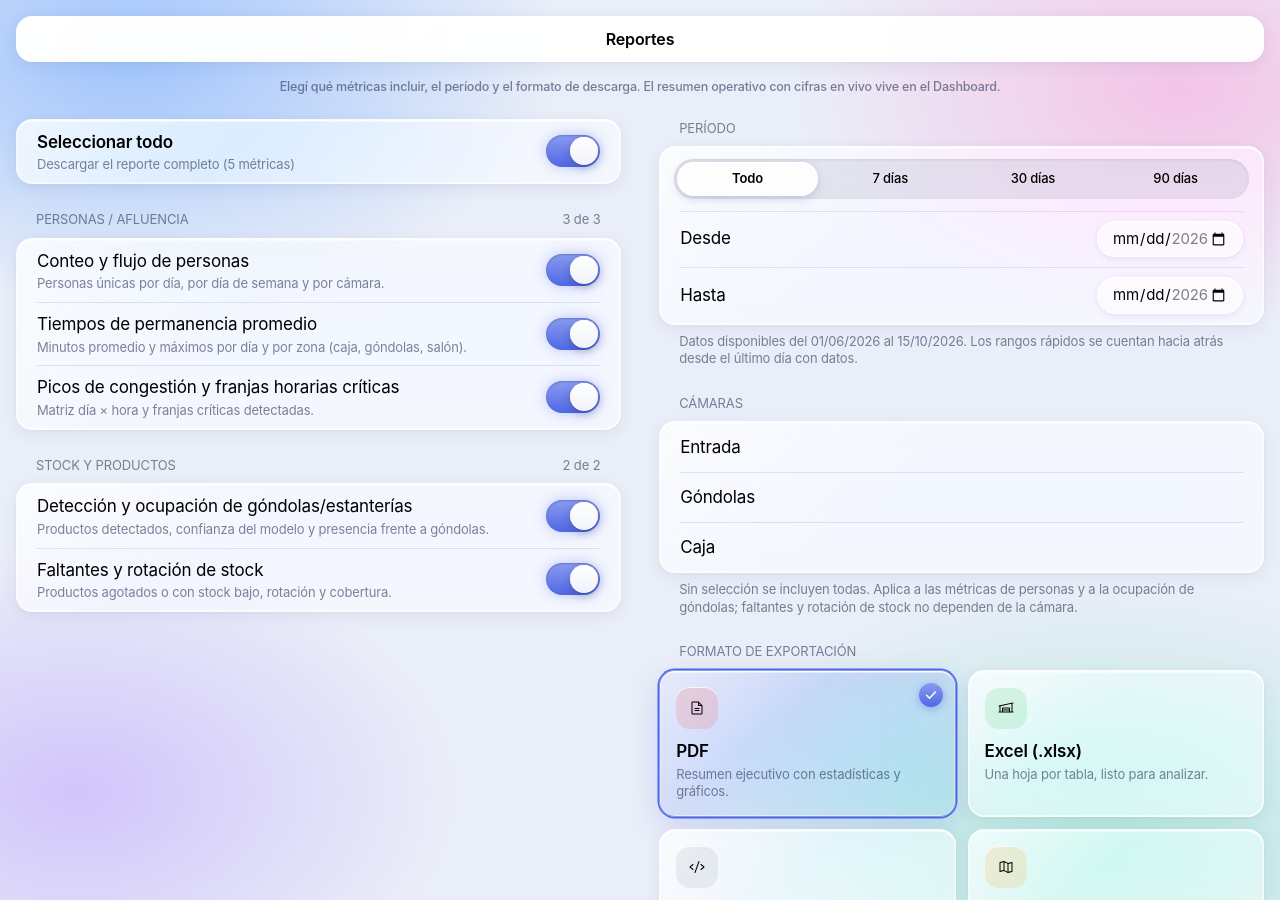
Test: período › el rango rápido "7 días" cuenta hacia atrás desde el último día con datos
The image size is (1280, 900).
Expected: the switch labelled "Seleccionar todo Descargar el reporte completo (5 métricas)" is shown, left=546, top=135, right=600, bottom=167
Click the button "7 días". click: {"x": 890, "y": 179}
box: left=820, top=162, right=961, bottom=196
(page scrolled)
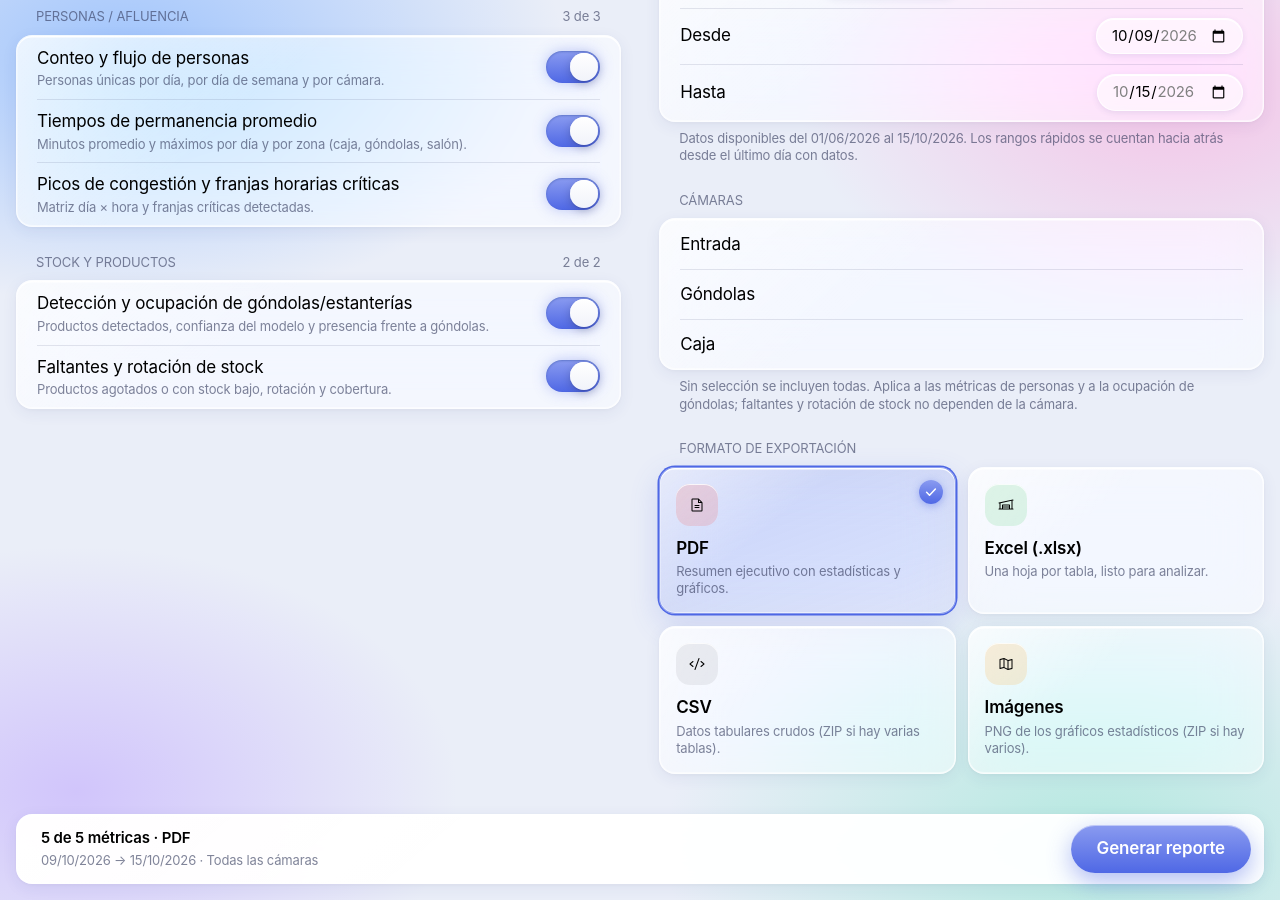
Now the date field labelled "Desde" holds "2026-10-09", box left=1096, top=18, right=1243, bottom=54
Now the date field labelled "Hasta" holds "2026-10-15", box left=1097, top=74, right=1243, bottom=111
